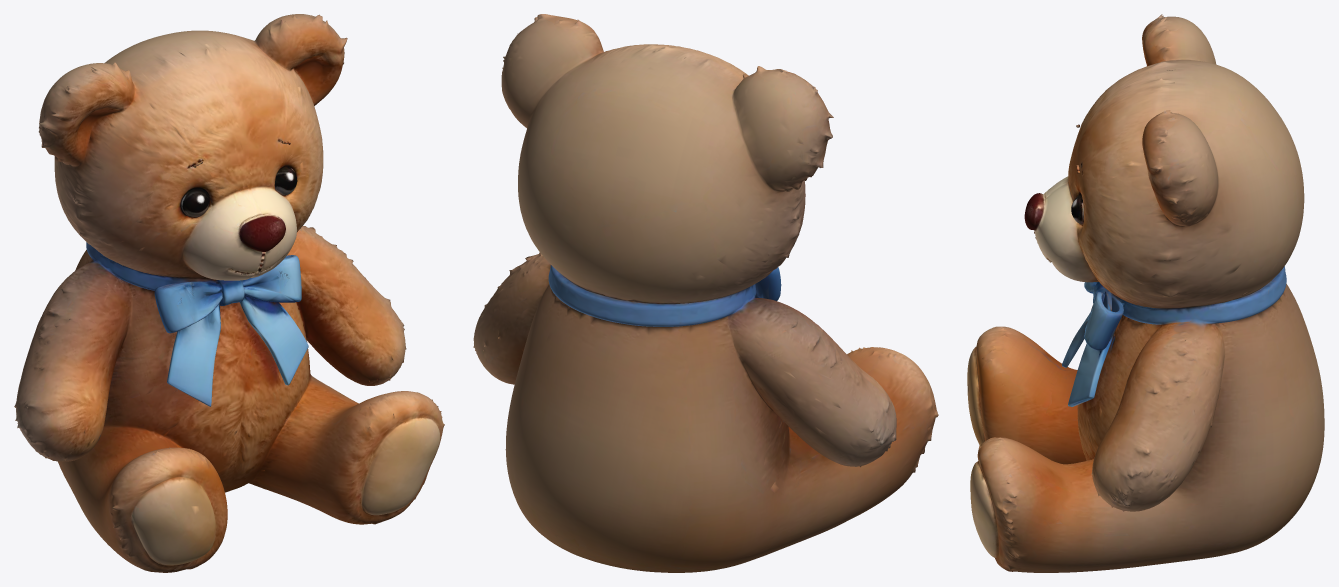
The model's file is hero-modelo.glb.
3 renders of one model, left to right at view 1: azimuth 30°, elevation 25°; view 2: azimuth 150°, elevation 25°; view 3: azimuth 270°, elevation 25°, orthographic. The views are drawn at different scales.
Parts seen in each view (by area): view 1: node_0; view 2: node_0; view 3: node_0.
Part boxes in pixels (x1,y1,x2,y2): node_0: (14, 14, 444, 572); node_0: (473, 14, 938, 572); node_0: (967, 14, 1324, 572).
Size of the model in its own units: 0.8331 by 0.9365 by 0.6798.
1 material, 1 textured.
